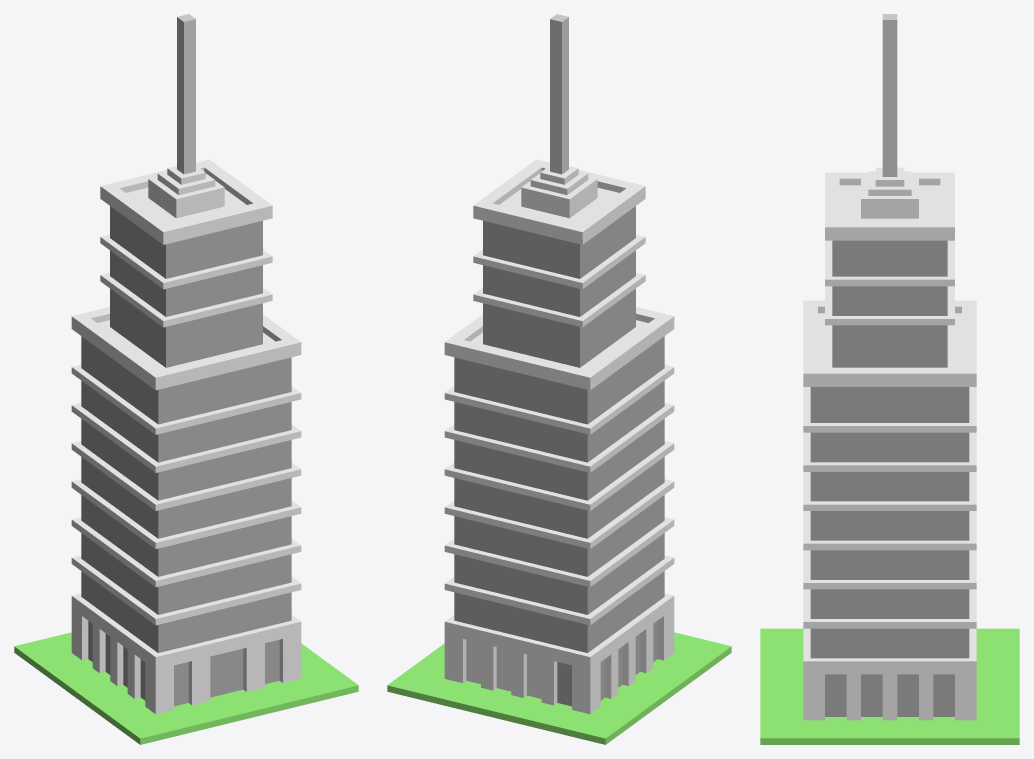
3 views of the same model, side by side, from view 1: azimuth 30°, elevation 25°; view 2: azimuth 150°, elevation 25°; view 3: azimuth 270°, elevation 25° (orthographic). The views are drawn at different scales.
Parts seen in each view (by area): view 1: building; view 2: building; view 3: building.
Part boxes in pixels (x1,y1,x2,y2): building: (14,14,358,744); building: (387,14,731,744); building: (760,14,1019,744).
Size of the model in its own units: 45 by 129 by 45.
